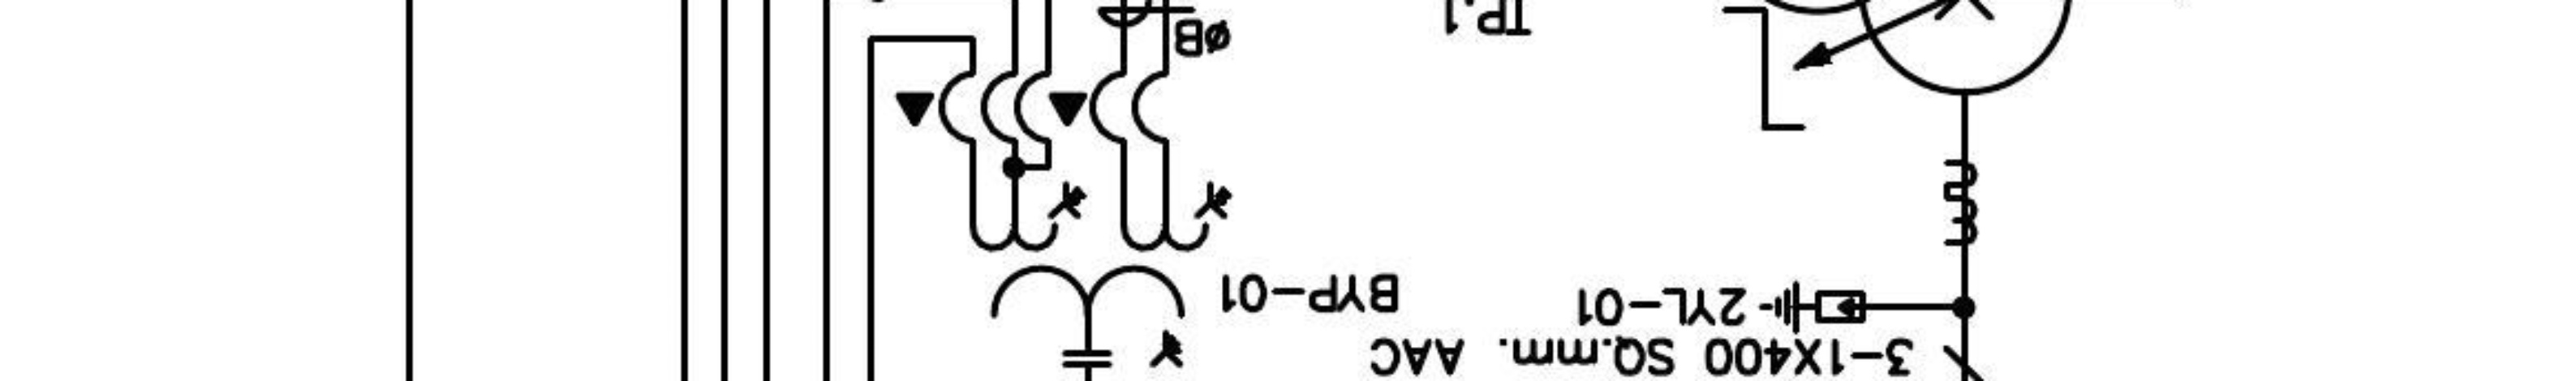115_cvt_3p: (968, 179, 1234, 370)
115_la: (1758, 279, 1866, 335)
